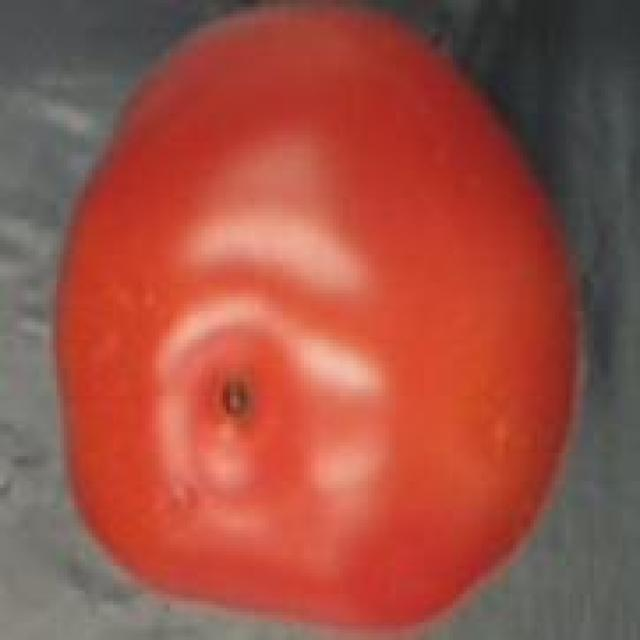overripe tomato: (46, 0, 590, 633)
